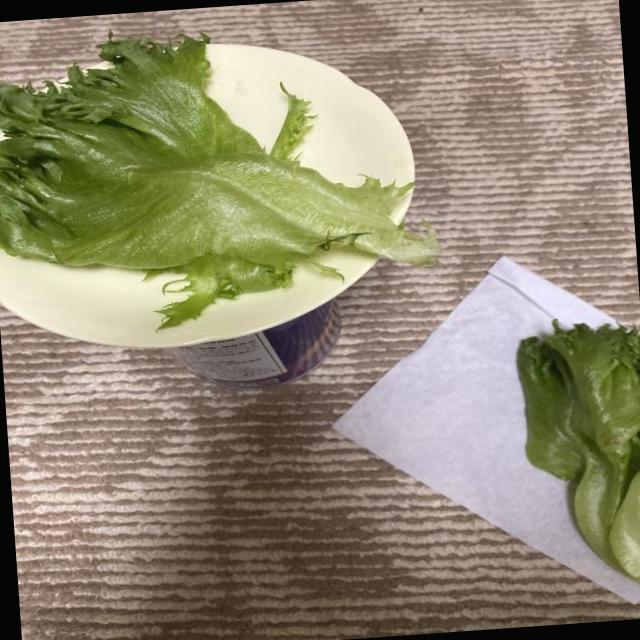Lettuce-Ready-to-Harvest: (0, 36, 439, 327), (517, 320, 640, 581)
